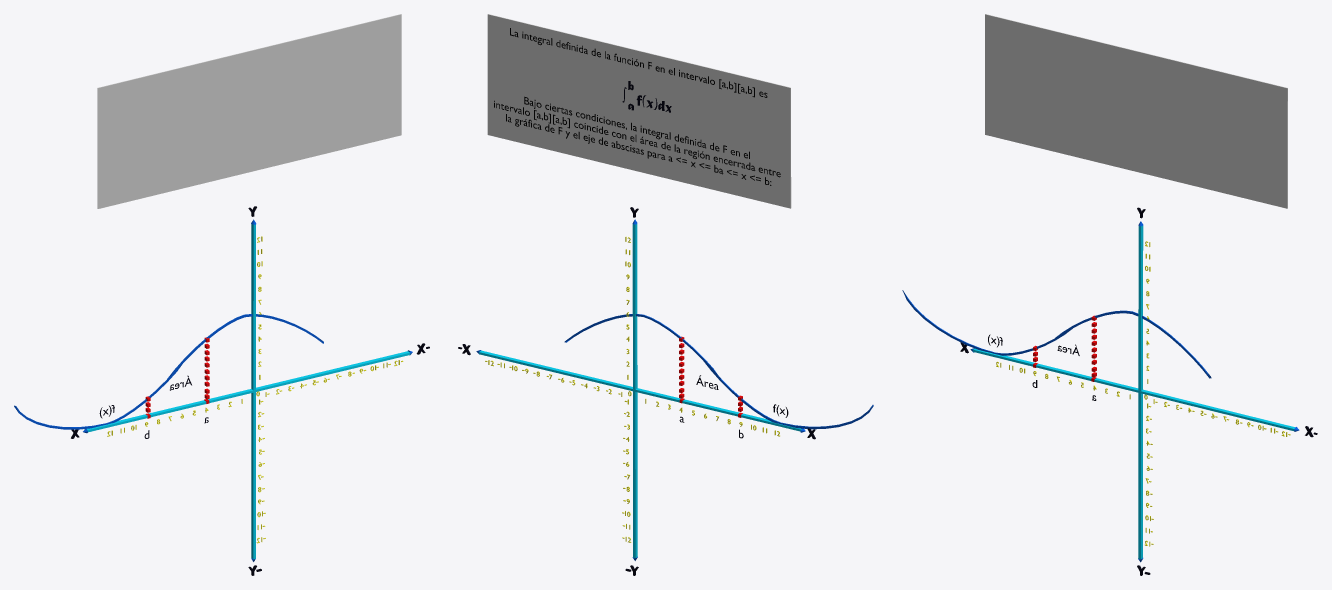
The model's file is int-def-area.fbx.
3 renders of one model, left to right at view 1: azimuth 30°, elevation 25°; view 2: azimuth 150°, elevation 25°; view 3: azimuth 330°, elevation 25°, orthographic.
Parts seen in each view (by area): view 1: Cubo.003, Cubo.001, Cubo, Surface.004, Surface.005; view 2: Cubo.003, Text.003, Cubo.001, Cubo, Surface.004; view 3: Cubo.003, Cubo.001, Cubo, Surface.004, Surface.005.
Boxes of the visible parts, x1=… form: Cubo.003: x1=97, y1=14, x2=401, y2=208; Cubo.001: x1=251, y1=224, x2=255, y2=559; Cubo: x1=86, y1=351, x2=410, y2=432; Surface.004: x1=14, y1=359, x2=185, y2=429; Surface.005: x1=167, y1=314, x2=323, y2=381; Cubo.003: x1=487, y1=14, x2=791, y2=208; Text.003: x1=494, y1=28, x2=780, y2=185; Cubo.001: x1=632, y1=224, x2=637, y2=558; Cubo: x1=479, y1=350, x2=801, y2=431; Surface.004: x1=703, y1=361, x2=873, y2=429; Cubo.003: x1=985, y1=14, x2=1287, y2=208; Cubo.001: x1=1138, y1=225, x2=1143, y2=559; Cubo: x1=972, y1=348, x2=1294, y2=430; Surface.004: x1=902, y1=290, x2=1072, y2=355; Surface.005: x1=1054, y1=310, x2=1211, y2=378.
Size of the model in its own units: 696 by 841 by 8.65.
